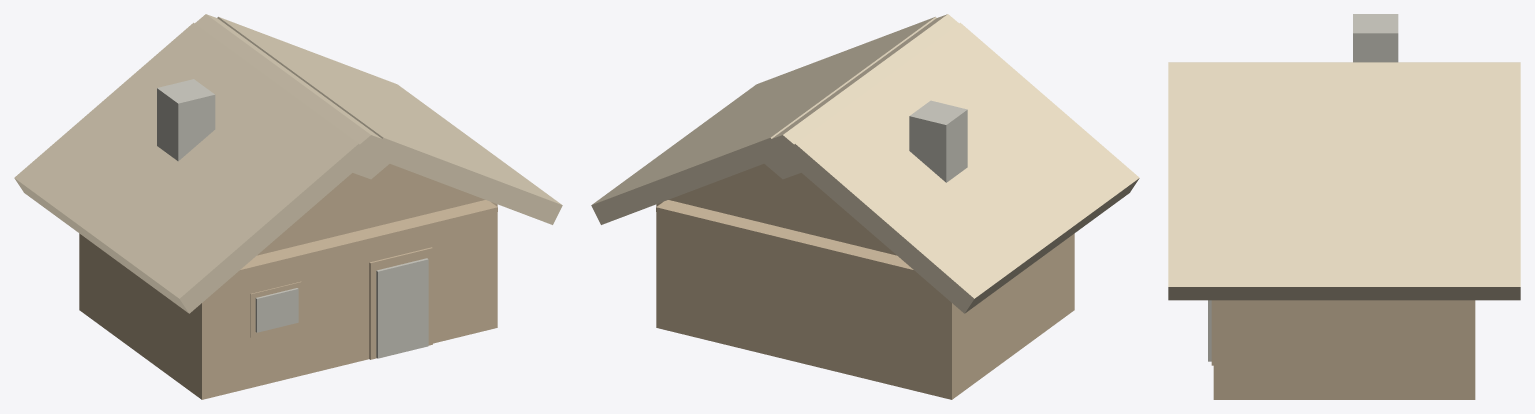
Rendered from hut.glb.
3 views of the same model, side by side, from view 1: azimuth 30°, elevation 25°; view 2: azimuth 150°, elevation 25°; view 3: azimuth 270°, elevation 25° (orthographic). The views are drawn at different scales.
Visible parts, largest first — view 1: hut_thatch, hut_wood, hut_stone; view 2: hut_thatch, hut_wood, hut_stone; view 3: hut_thatch, hut_wood, hut_stone.
Part boxes in pixels (x1,y1,x2,y2): hut_thatch: (14,14,562,313); hut_wood: (79,164,497,399); hut_stone: (157,79,428,358); hut_thatch: (591,14,1139,313); hut_wood: (656,164,1074,399); hut_stone: (909,100,967,182); hut_thatch: (1168,62,1520,300); hut_wood: (1211,300,1475,399); hut_stone: (1208,14,1398,361).
Size of the model in its own units: 8.3 by 5.06 by 6.2.
